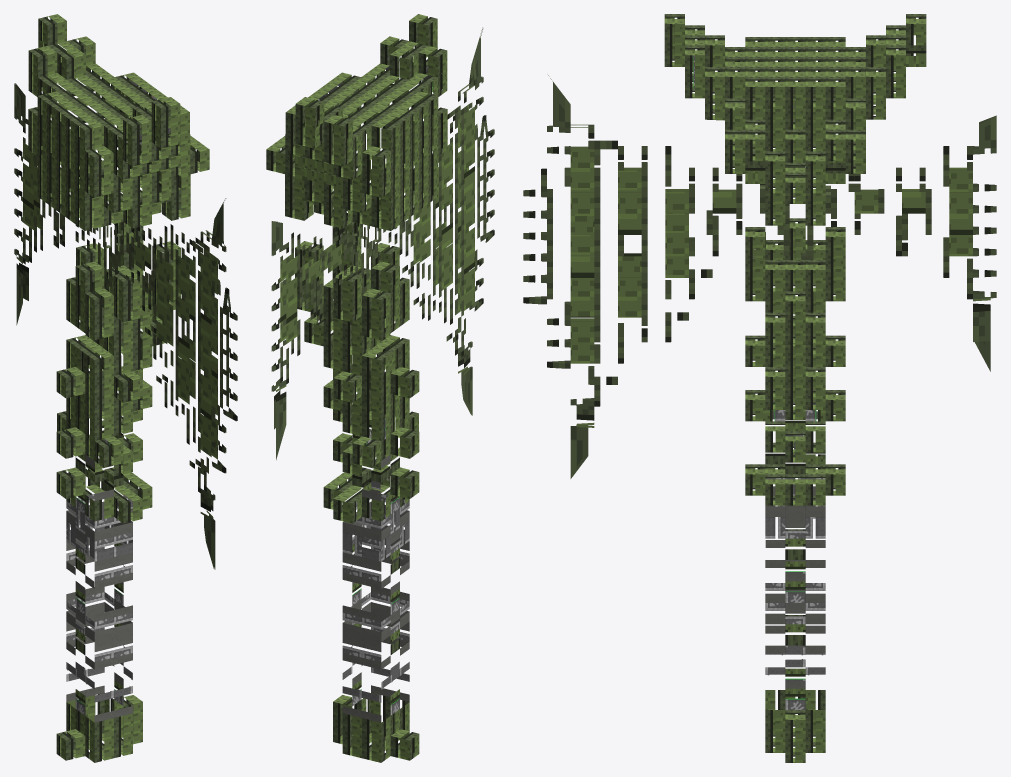
The model's file is doom_axe_fin.obj.
The picture shows the model from 3 angles, left to right: view 1: azimuth 30°, elevation 25°; view 2: azimuth 150°, elevation 25°; view 3: azimuth 270°, elevation 25°; orthographic projection. The views are drawn at different scales.
Visible parts, largest first — view 1: body, head, blade; view 2: body, head, blade; view 3: body, blade, head.
Part boxes in pixels (x1,y1,x2,y2): body: (56,222,180,762); head: (28,14,209,230); blade: (14,83,237,569); body: (295,222,419,762); head: (266,14,447,230); blade: (271,27,494,459); body: (745,218,845,762); blade: (523,75,996,478); head: (664,14,926,225).
Bounding box in the file's own units: 0.335 × 1.9 × 1.12.
